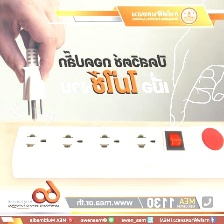three_eye_plug: (9, 124, 224, 183)
